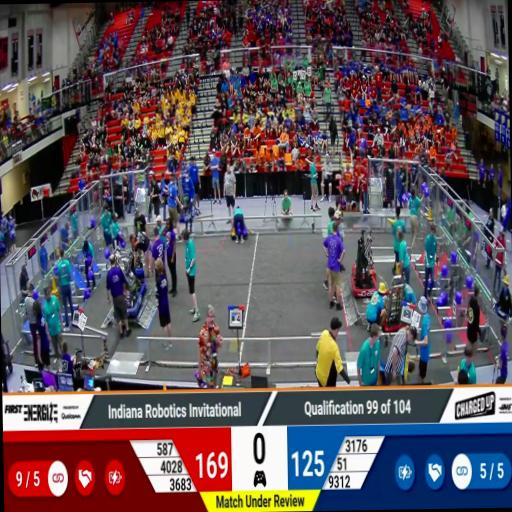robot: (110, 248, 142, 316), (382, 274, 412, 332), (352, 247, 380, 301), (118, 250, 149, 296), (352, 234, 380, 278), (132, 257, 146, 276)
